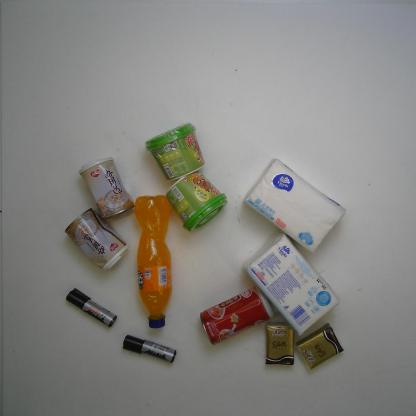Canned Food: (200, 284, 277, 346), (63, 206, 129, 272), (77, 156, 136, 221)
Drink: (133, 194, 174, 329)
Instant Drink: (165, 170, 230, 232), (143, 120, 206, 182)
Stationery: (66, 287, 118, 328), (122, 334, 178, 364)
Tissue: (242, 231, 342, 337), (240, 157, 347, 254), (295, 323, 345, 372), (264, 321, 296, 366)
